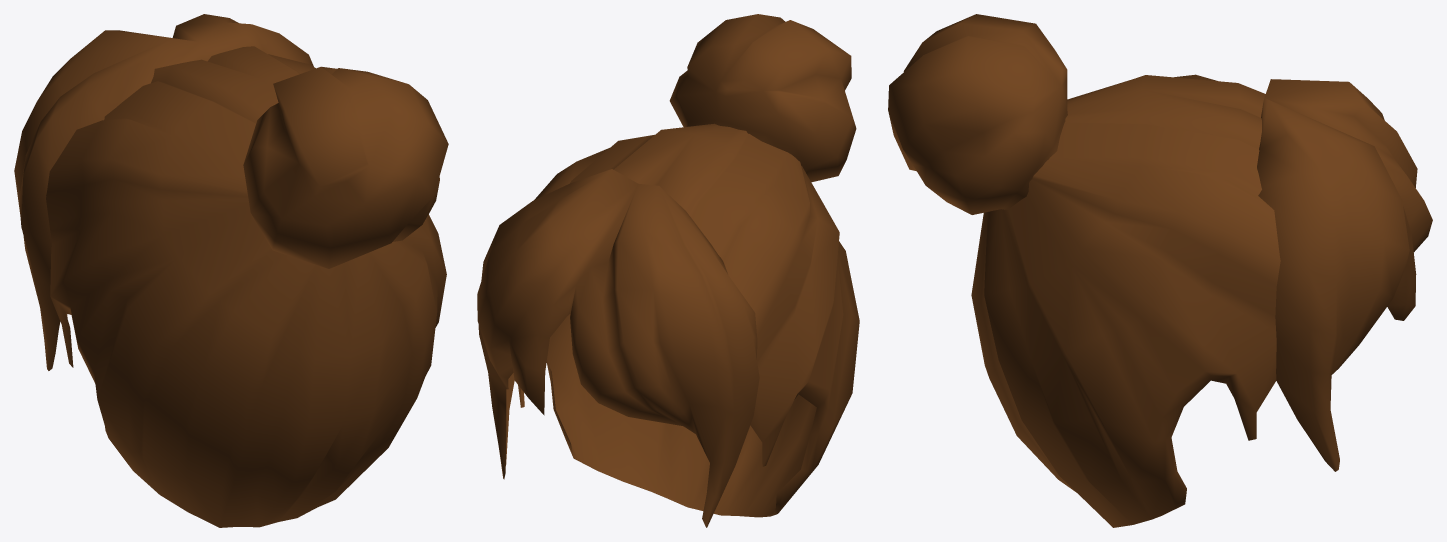
The model's file is Hair_Female_005.glb.
The picture shows the model from 3 angles, left to right: view 1: azimuth 30°, elevation 25°; view 2: azimuth 150°, elevation 25°; view 3: azimuth 270°, elevation 25°; orthographic projection. The views are drawn at different scales.
Visible parts, largest first — view 1: Hair_Female_005; view 2: Hair_Female_005; view 3: Hair_Female_005.
Part boxes in pixels (<box>): Hair_Female_005: <box>14,14,448,527</box>; Hair_Female_005: <box>477,14,859,527</box>; Hair_Female_005: <box>888,14,1432,527</box>.
Bounding box in the file's own units: 0.1944 × 0.2737 × 0.2809.
